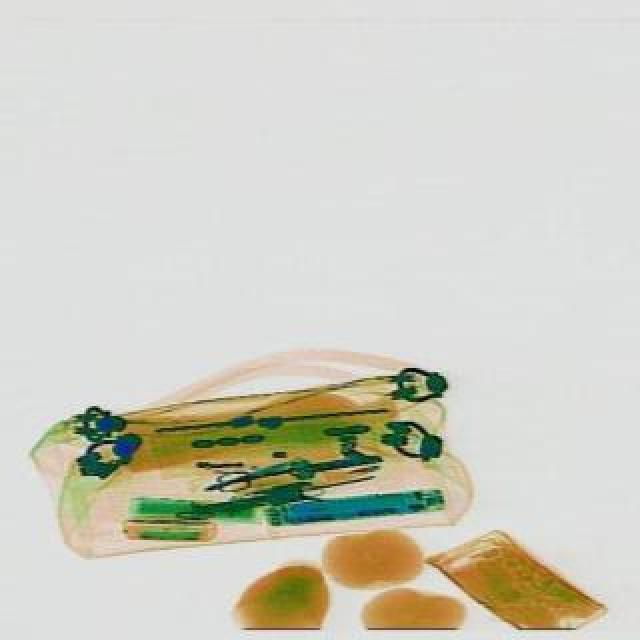pliers: (214, 454, 314, 492)
